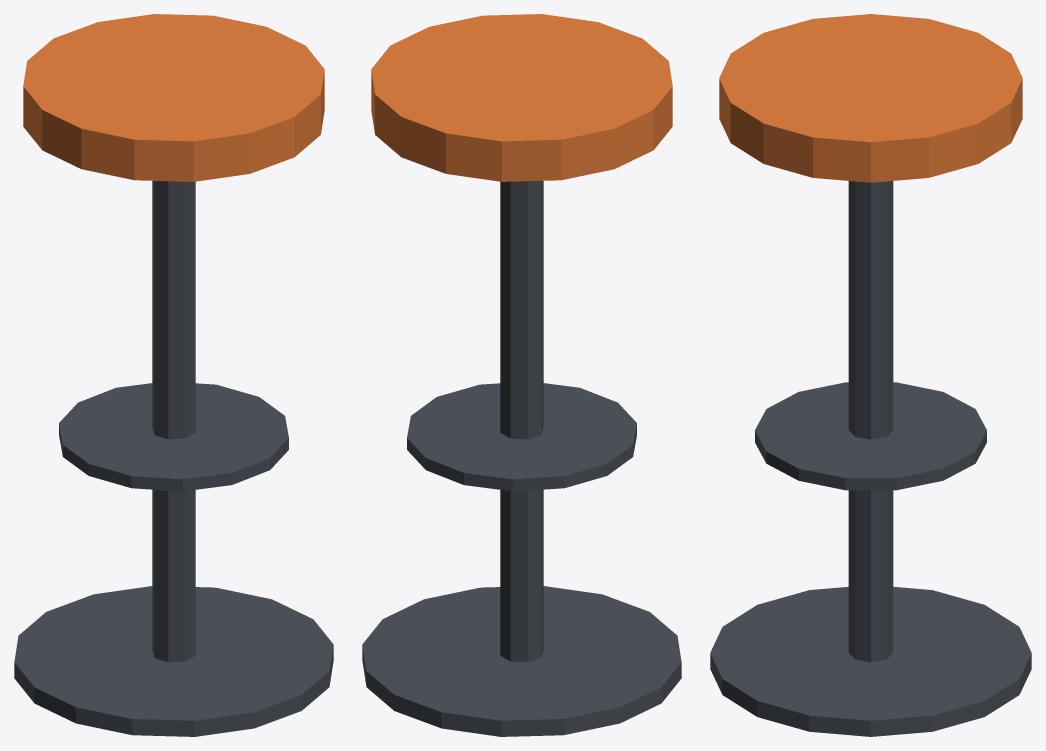
The model's file is bar_stool.glb.
3 renders of one model, left to right at view 1: azimuth 30°, elevation 25°; view 2: azimuth 150°, elevation 25°; view 3: azimuth 270°, elevation 25°, orthographic.
Visible parts, largest first — view 1: bar_stool_mesh; view 2: bar_stool_mesh; view 3: bar_stool_mesh.
Boxes of the visible parts, <box> form: bar_stool_mesh: <box>14,14,333,736</box>; bar_stool_mesh: <box>362,14,681,736</box>; bar_stool_mesh: <box>710,14,1031,736</box>.
Size of the model in its own units: 0.36 by 0.73 by 0.36.
